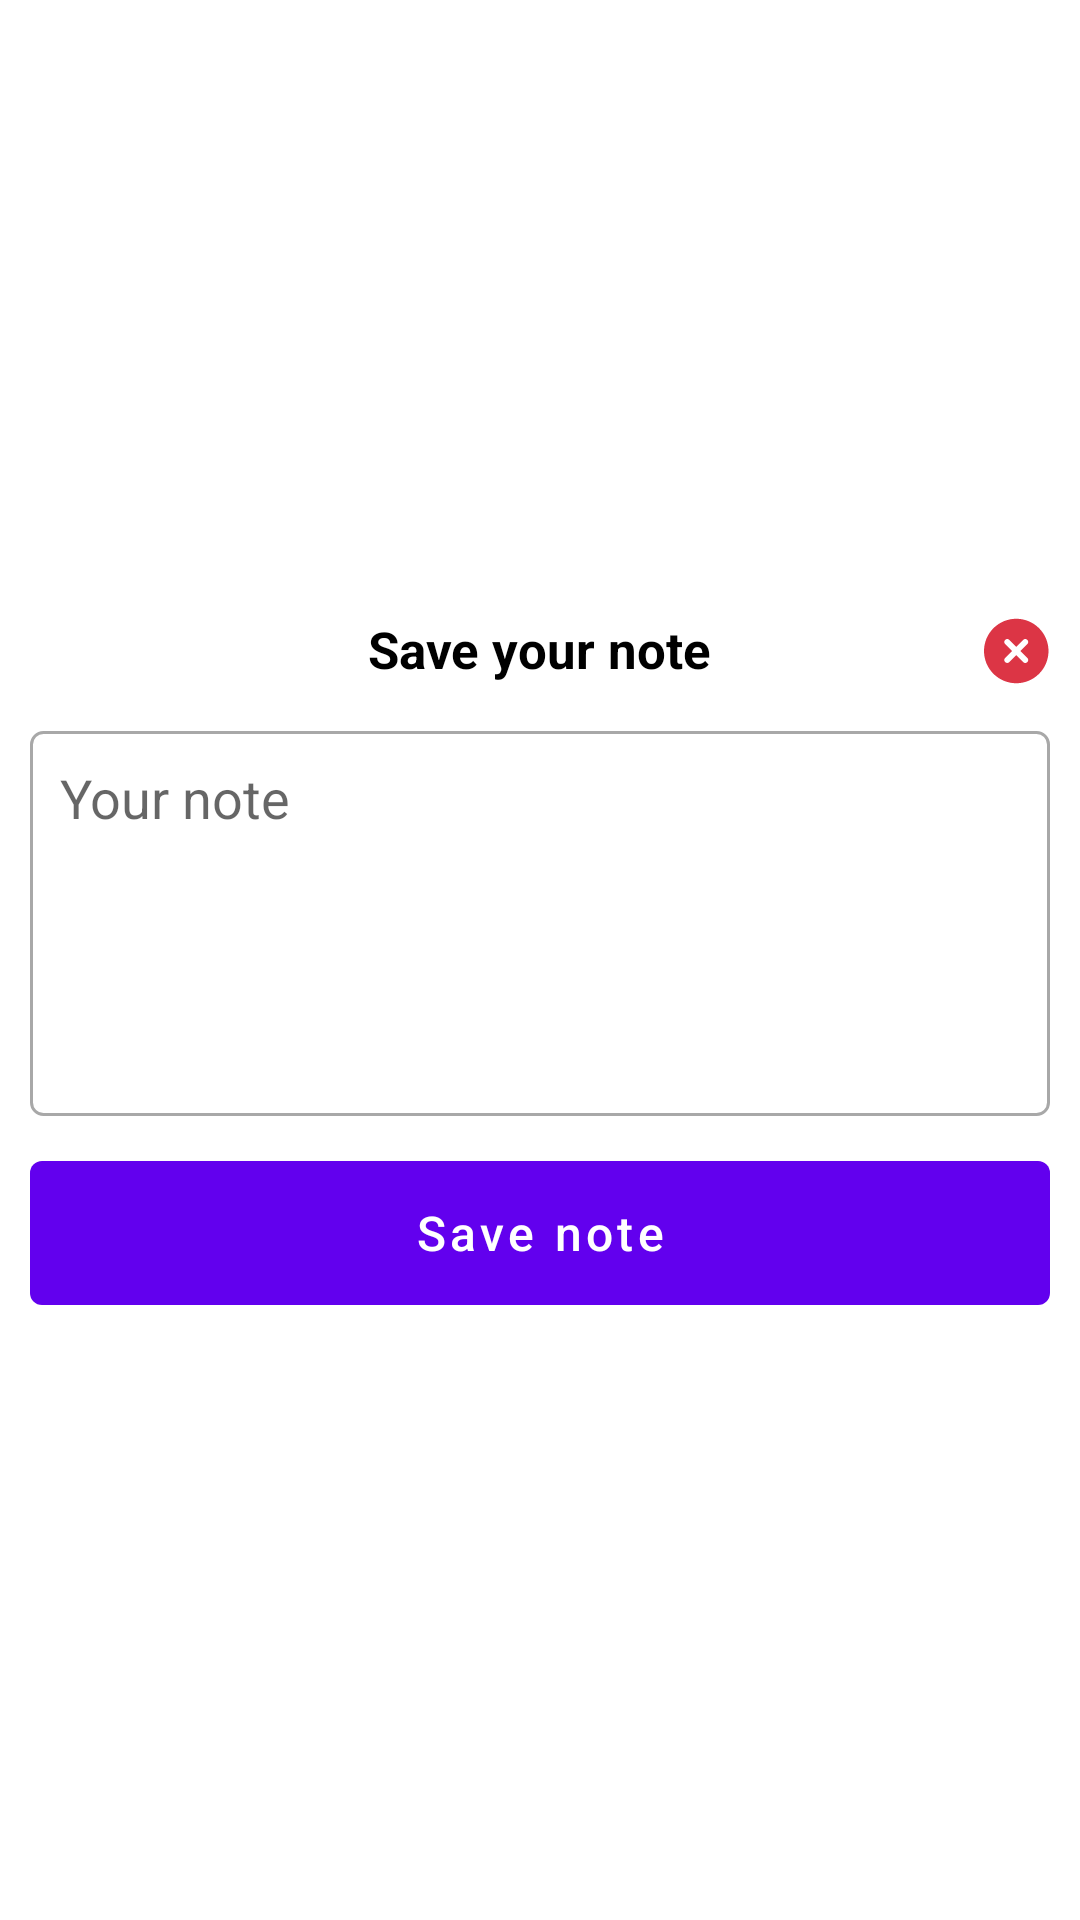

Locate icon controls on the screen. Image size 1080 × 1920, boxes as (x1, y1, x2, y2).
close: (984, 618, 1049, 684)
